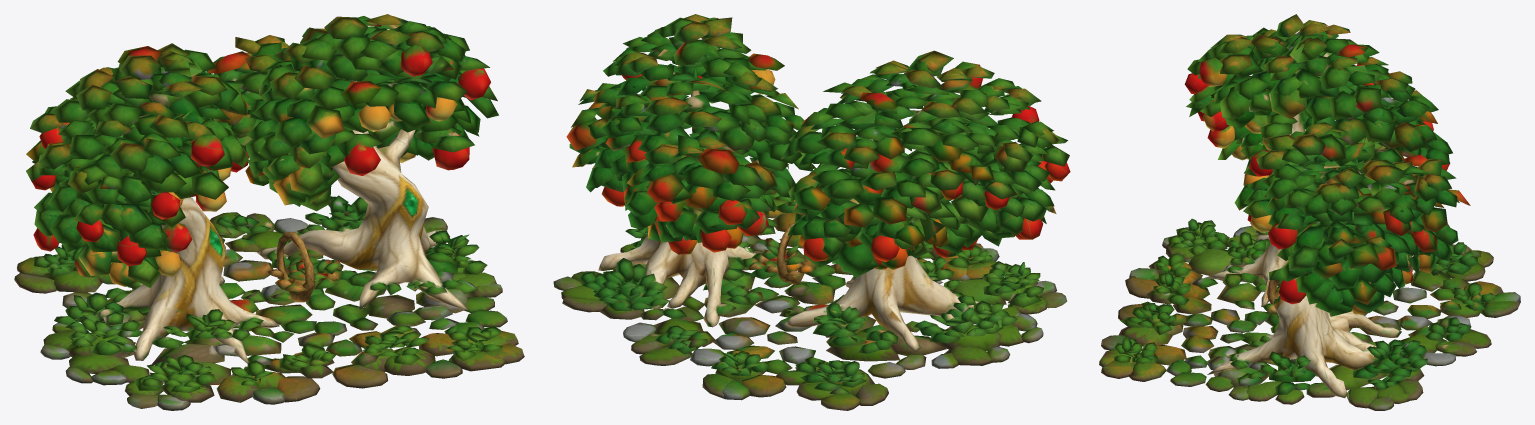
File: arboles-frutales_e4.glb
3 views of the same model, side by side, from view 1: azimuth 30°, elevation 25°; view 2: azimuth 150°, elevation 25°; view 3: azimuth 270°, elevation 25° (orthographic). The views are drawn at different scales.
Visible parts, largest first — view 1: arboles-frutales_cuerpo; view 2: arboles-frutales_cuerpo; view 3: arboles-frutales_cuerpo.
Part boxes in pixels (<box>): arboles-frutales_cuerpo: <box>14,14,524,410</box>; arboles-frutales_cuerpo: <box>553,14,1070,410</box>; arboles-frutales_cuerpo: <box>1099,14,1520,410</box>.
Size of the model in its own units: 1.9 by 1.1 by 1.75.
1 material, 1 textured.
